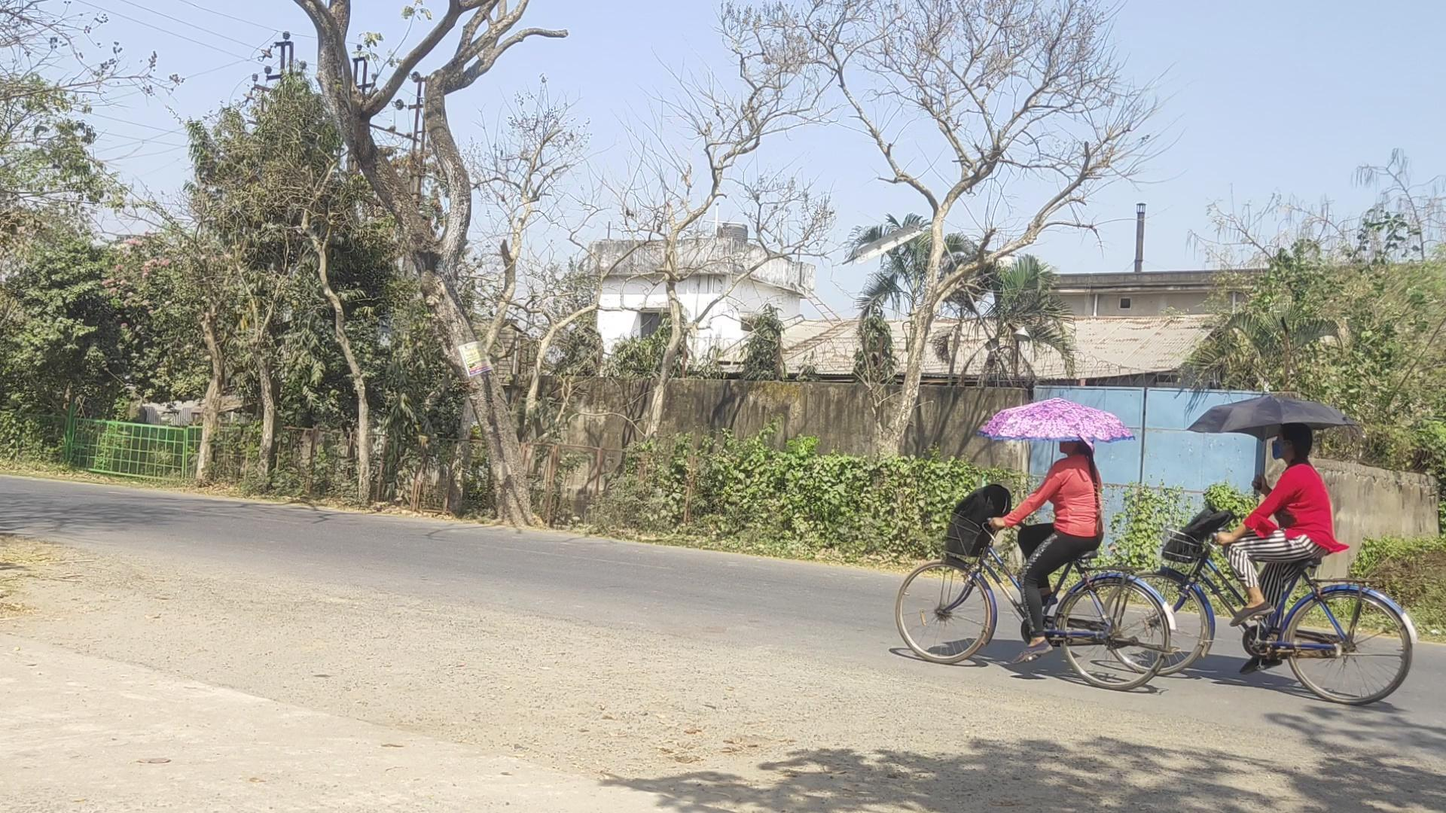bike: (1103, 393, 1417, 705), (895, 397, 1176, 690)
